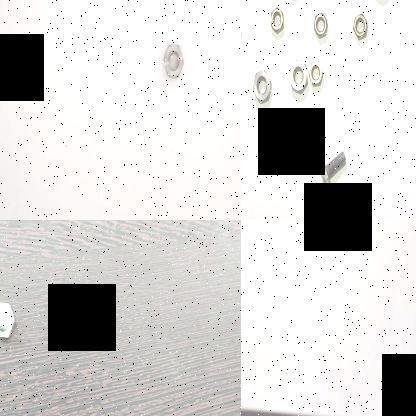Bolts: (314, 140, 352, 200), (0, 298, 15, 340), (241, 22, 247, 88)
NUTS: (161, 34, 187, 86), (250, 67, 275, 112), (287, 57, 309, 98), (307, 58, 329, 92), (268, 6, 288, 42), (350, 8, 370, 44), (312, 9, 332, 43), (278, 112, 296, 145)
